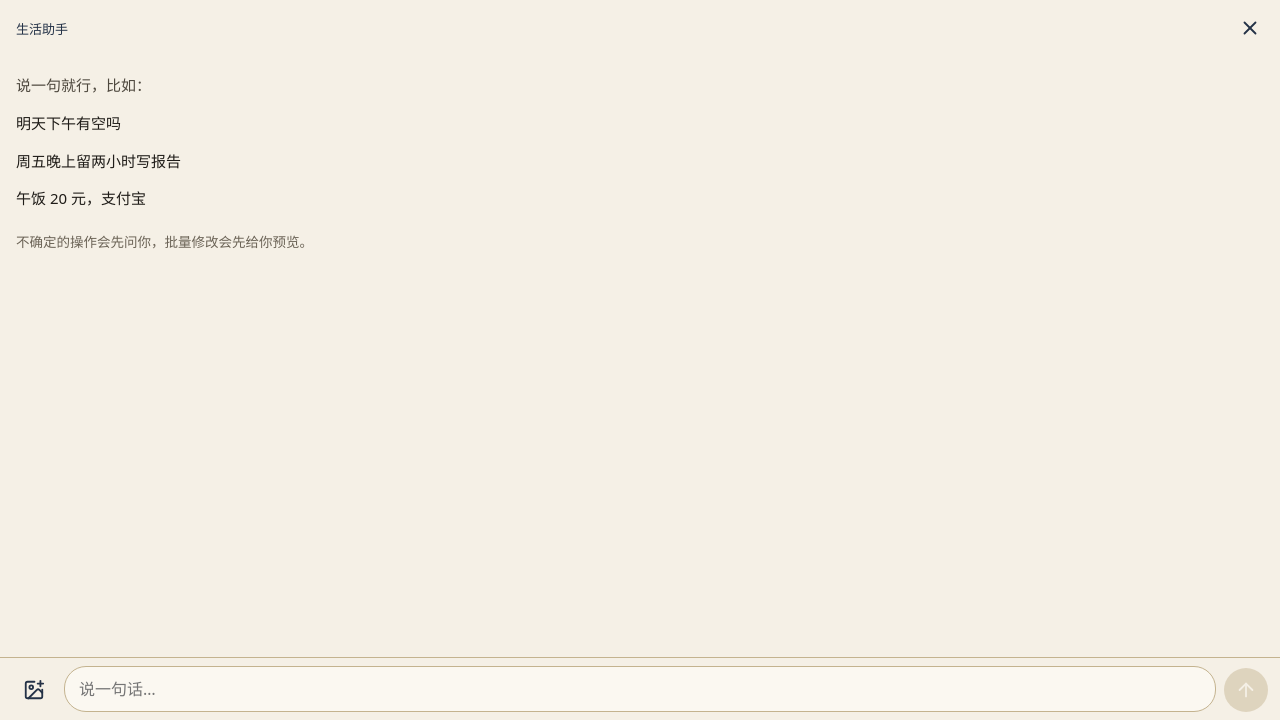
Scenario: assistant connection failures and visible continuation › shows the actual pre-send failure and restores the clarification as an editable draft
Type "明天中午12:00-13:45到滋兰苑集合" into the text box named "对生活助手说" at (640, 689), box [64,666,1216,712]
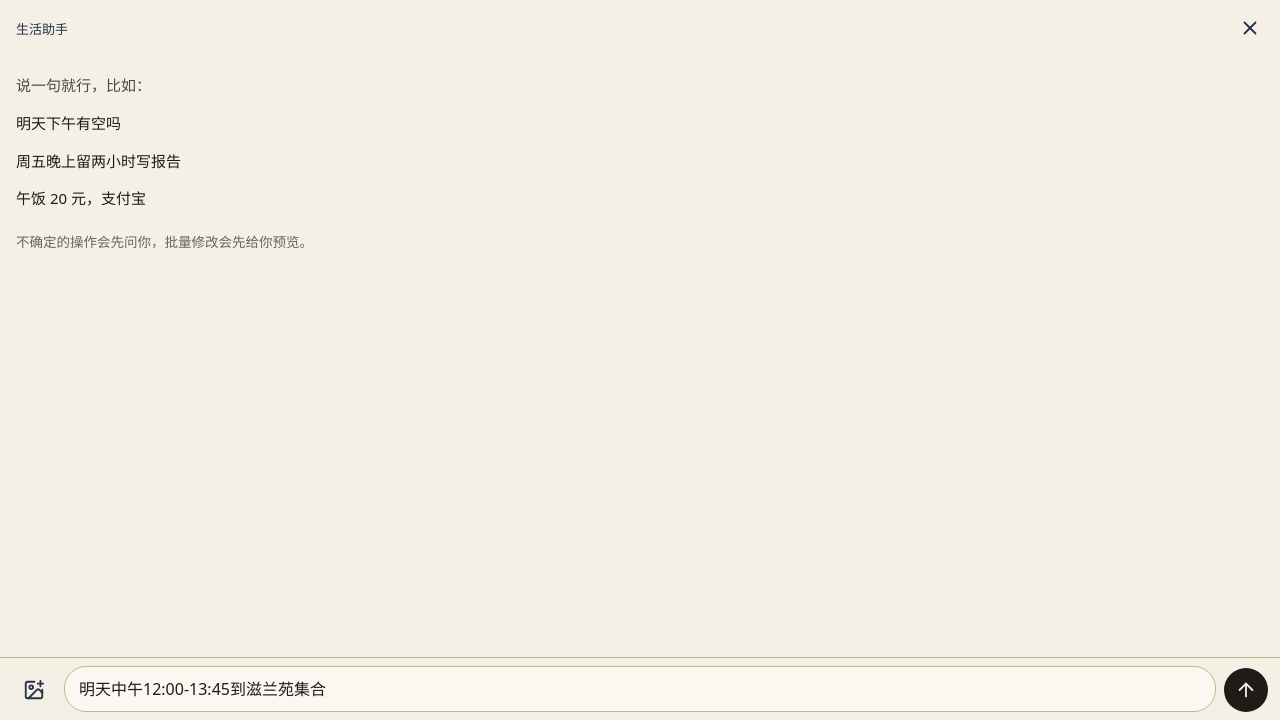
Click the button named "发送" at (1246, 690), box [1224,668,1268,712]
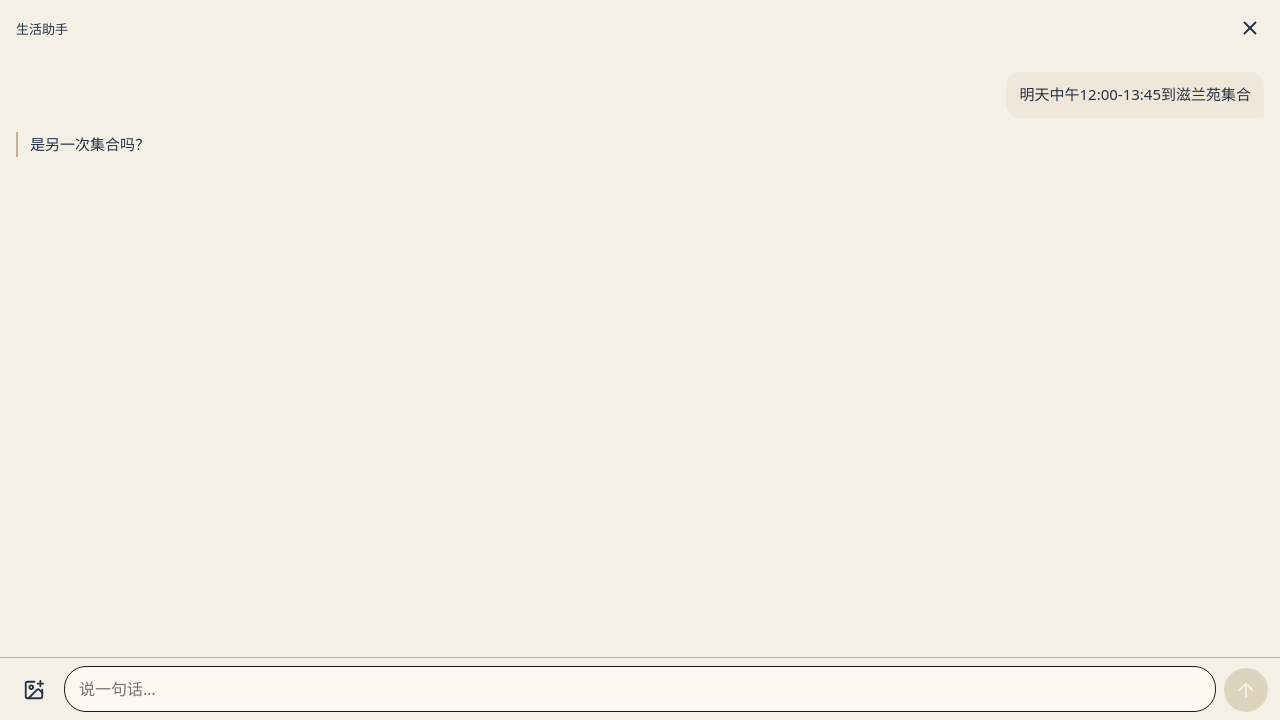
Type "28号中午" into the text box named "对生活助手说" at (640, 689), box [64,666,1216,712]
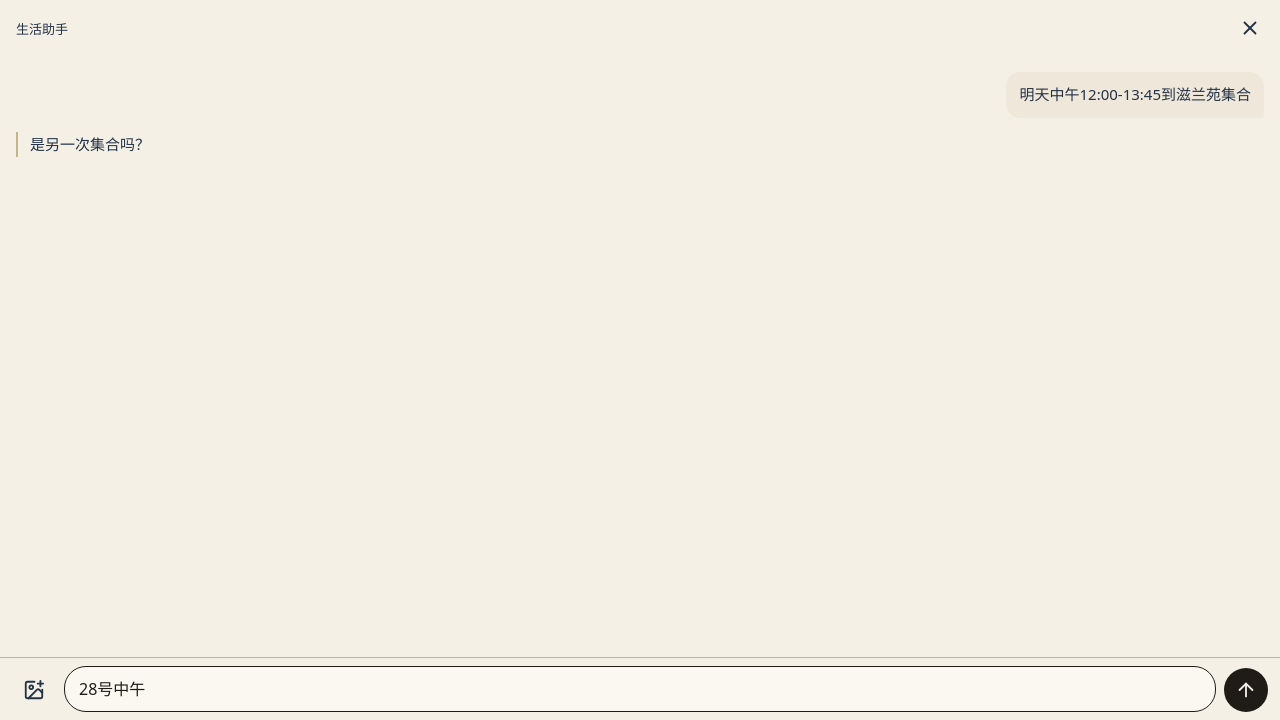
Click the button named "发送" at (1246, 690), box [1224,668,1268,712]
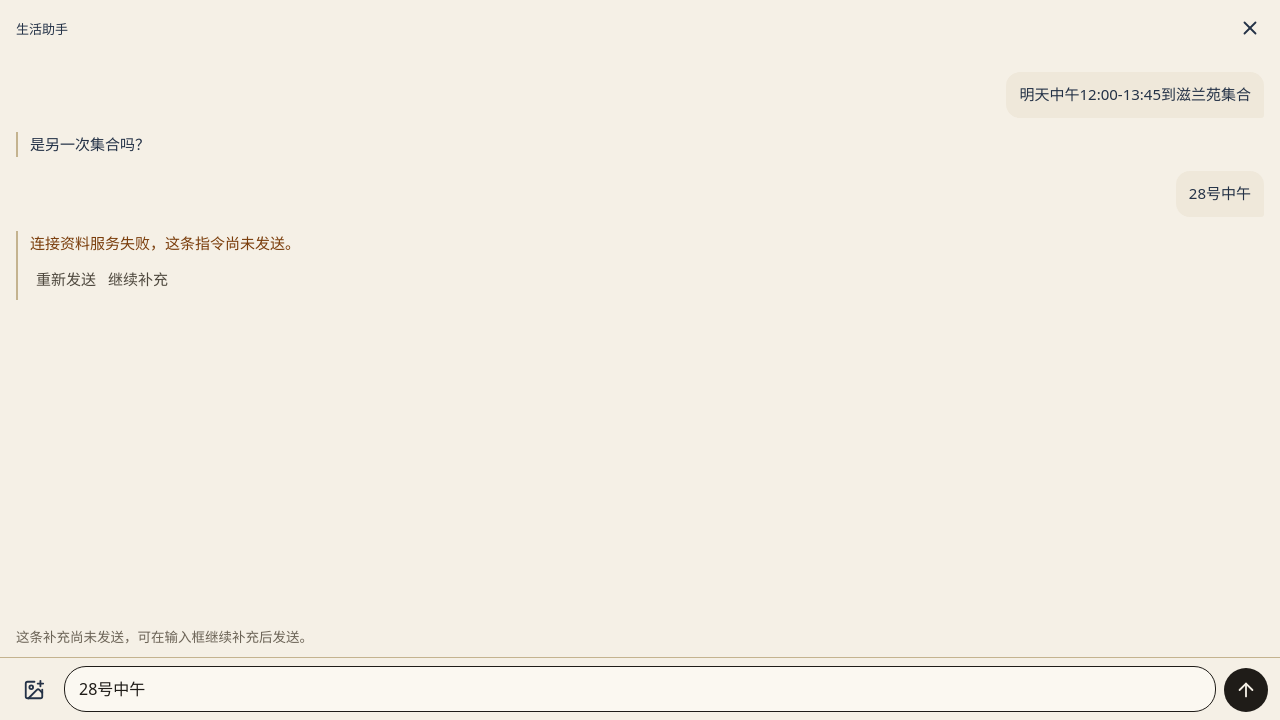
expect the text "连接资料服务失败，这条指令尚未发送。" is shown: met, box [30,230,300,256]
expect the text "这条补充尚未发送，可在输入框继续补充后发送。" is shown: met, box [16,628,313,646]
Replace the text in the text box named "对生活助手说" with "28号中午，新的一场" at (640, 689), box [64,666,1216,712]
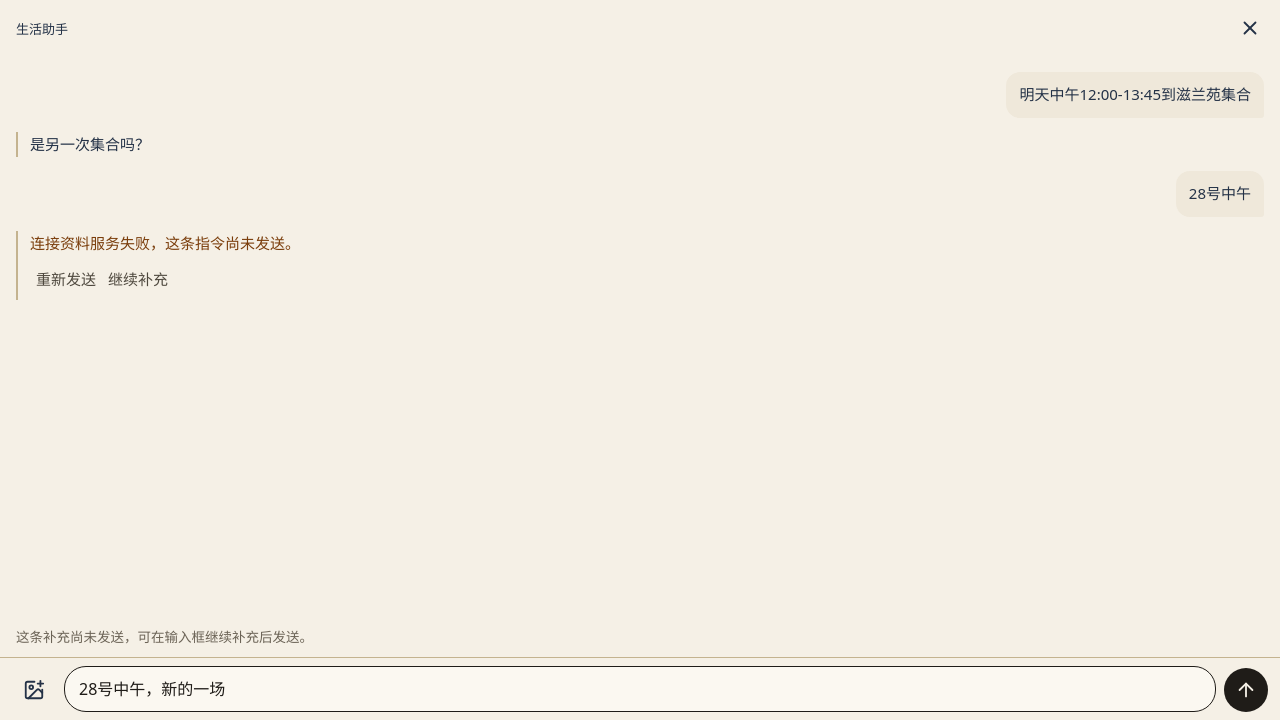
Click the button named "发送" at (1246, 690), box [1224,668,1268,712]
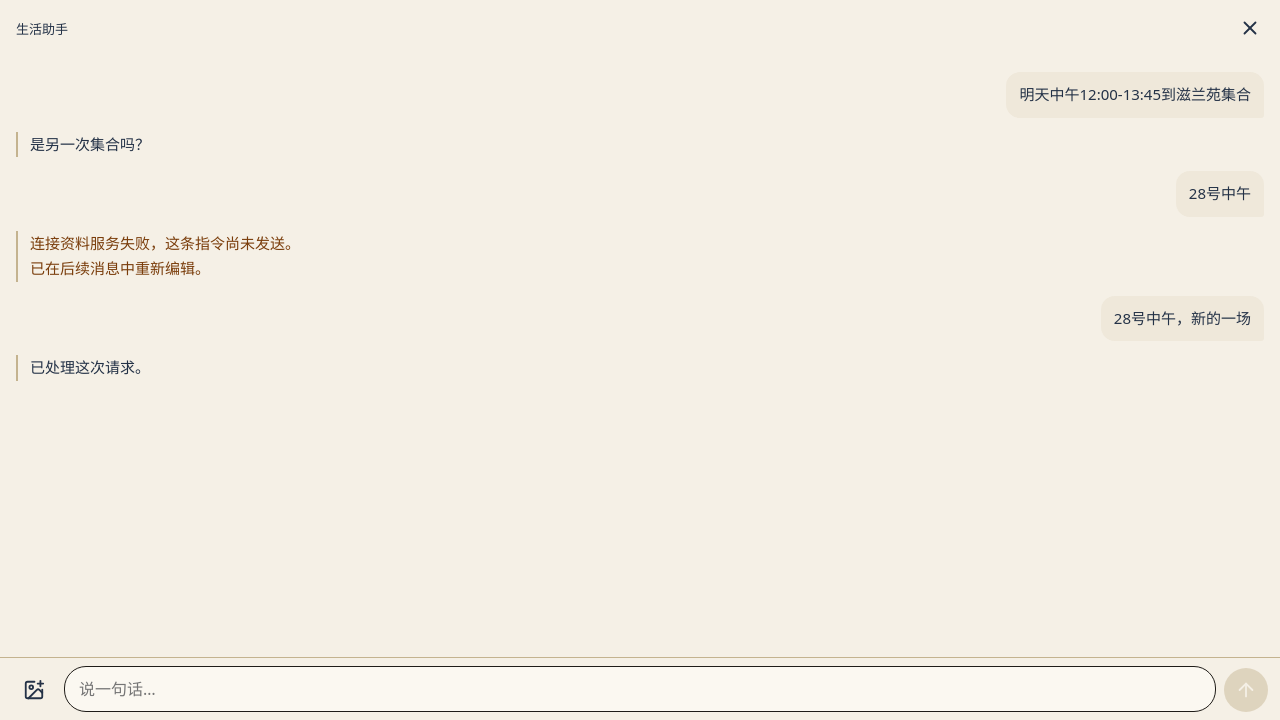
expect the text "28号中午，新的一场" is shown: met, box [1114,306,1251,331]
expect the button "重新发送" is gone: met
expect the text box named "对生活助手说" is empty: met, box [64,666,1216,712]
